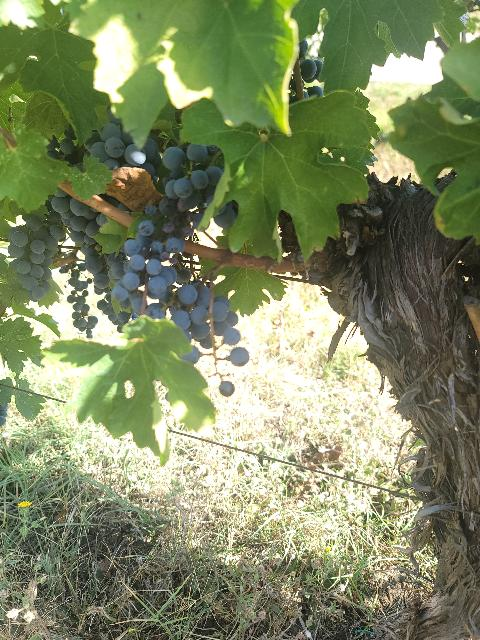grapes: (171, 269, 249, 368), (111, 220, 185, 319), (51, 189, 110, 294), (159, 144, 222, 218), (8, 216, 58, 302), (60, 262, 98, 339)
